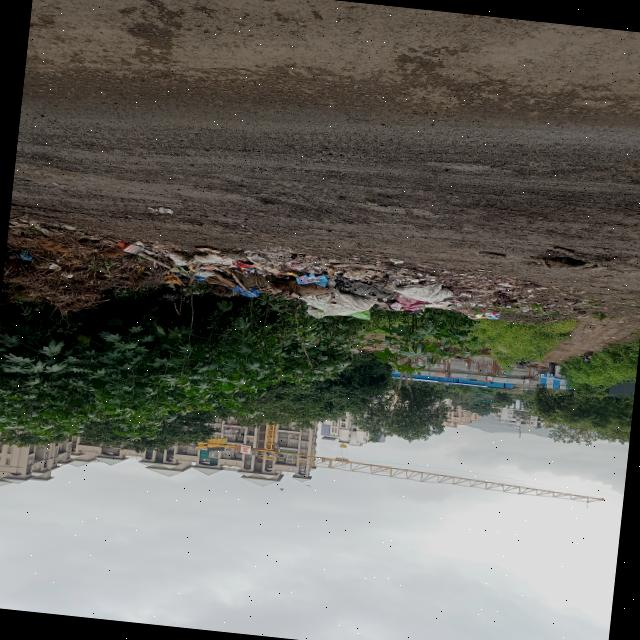garbage: (120, 238, 451, 330), (0, 213, 115, 317)
